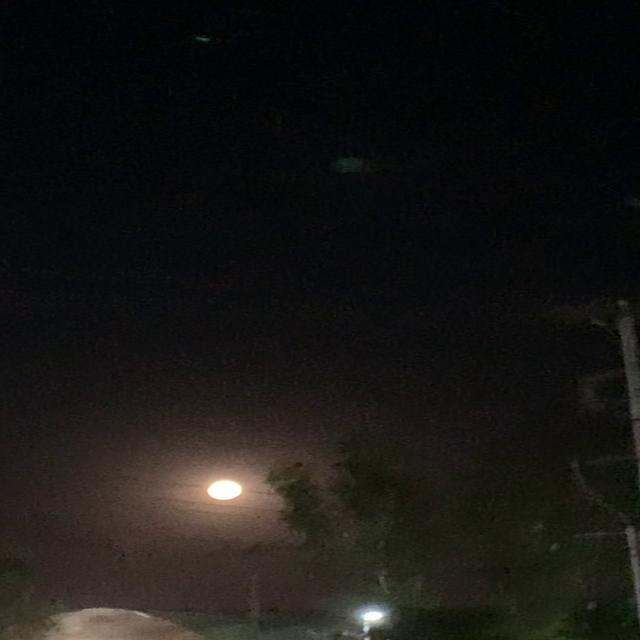moon: (208, 476, 260, 500)
